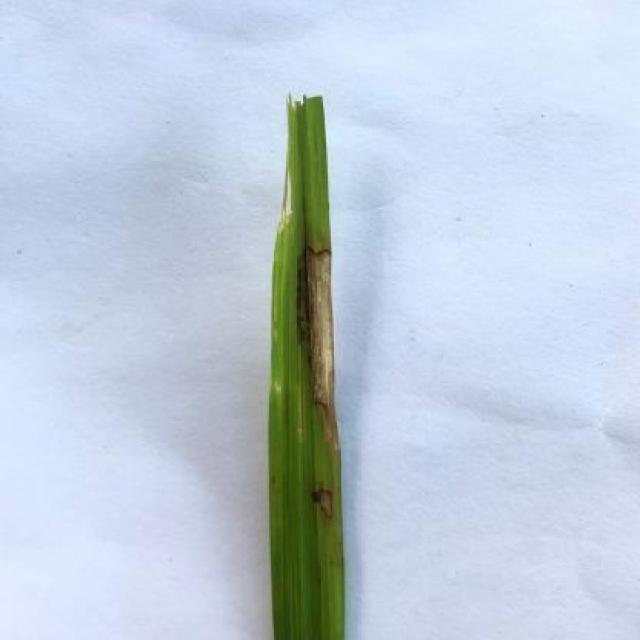Brown_Spot: (266, 86, 356, 640)
